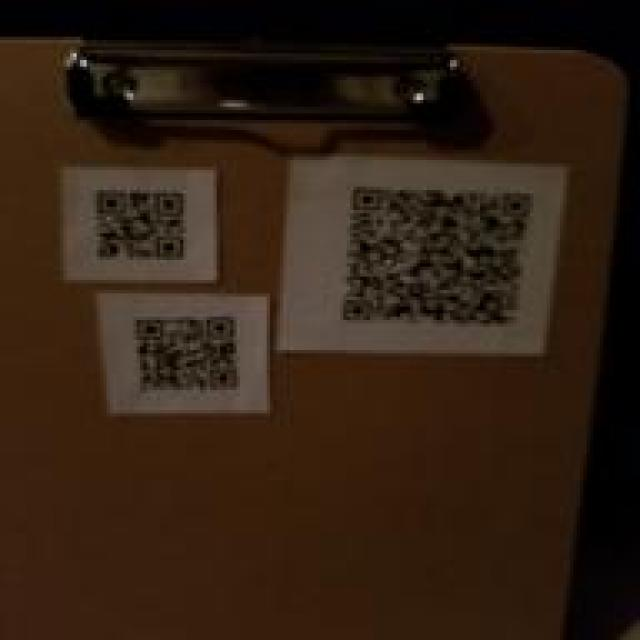QR_CODE: (325, 160, 547, 332), (122, 300, 253, 408), (75, 176, 203, 266)
